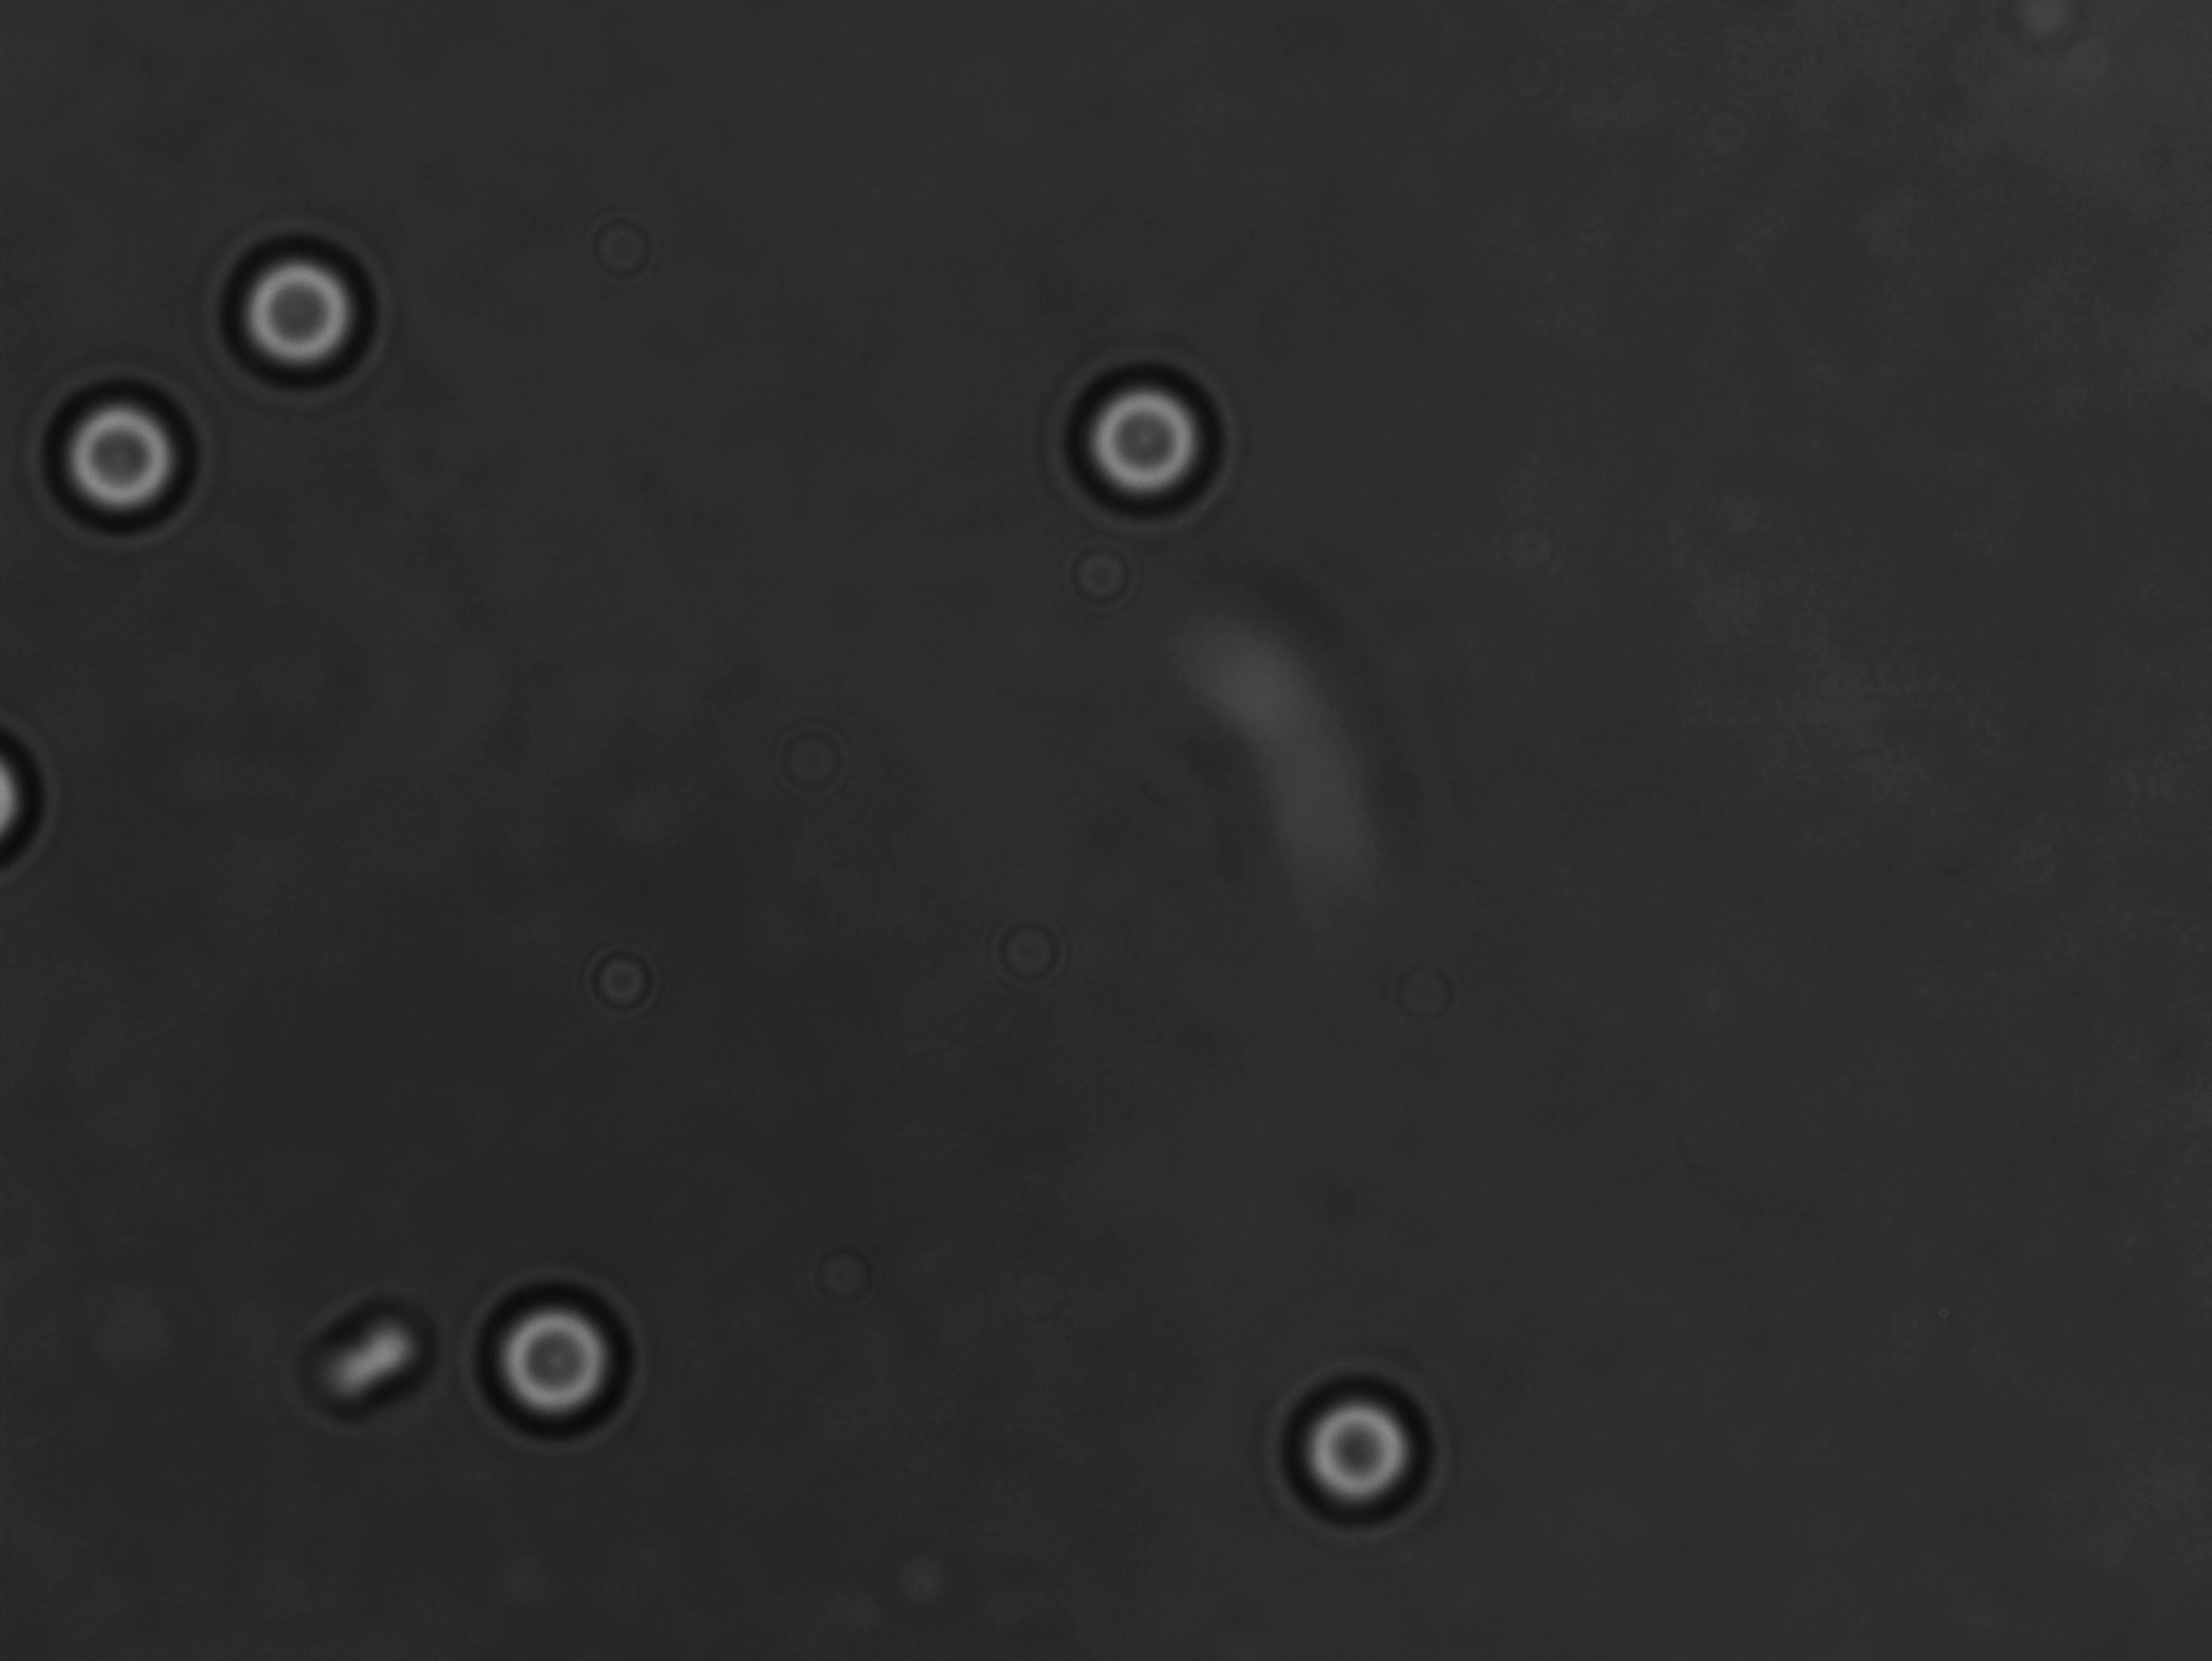depth:40: (450, 1246, 668, 1446), (1275, 1350, 1467, 1551), (40, 345, 229, 530), (208, 213, 379, 403), (1052, 349, 1230, 523)
